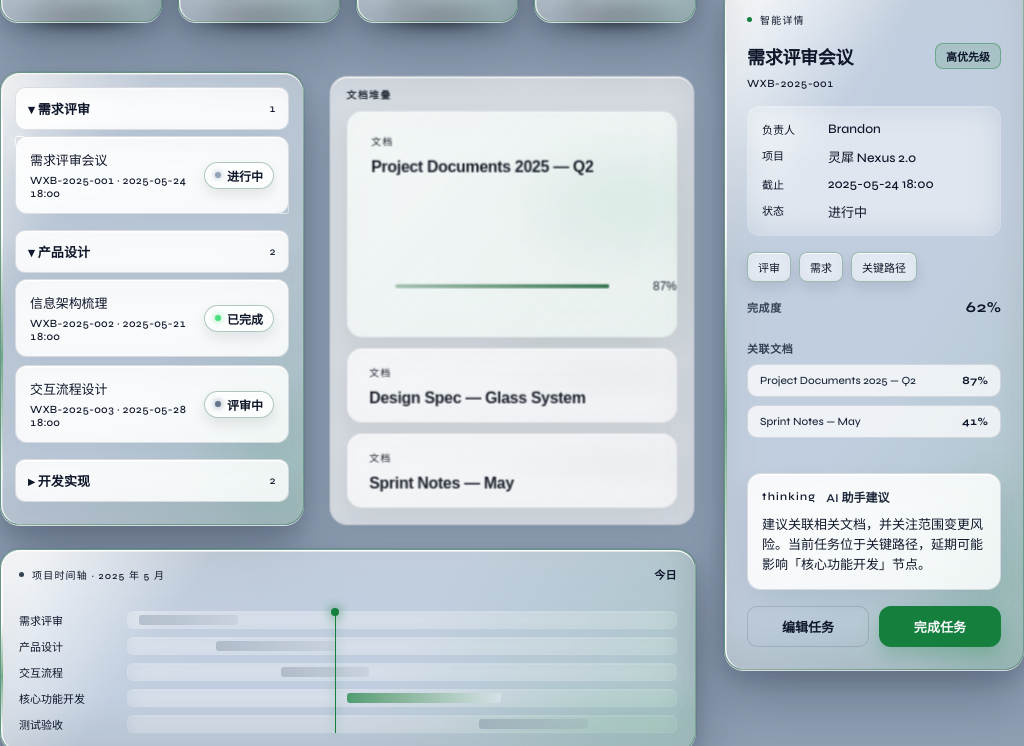
Test: DashboardWorkspace (reference #3) › toggles accordion groups
(page scrolled)
Check: the text "测试与验收准备" is not shown
Click the button "▸ 开发实现 2": (64, 482) [15,459,289,502]
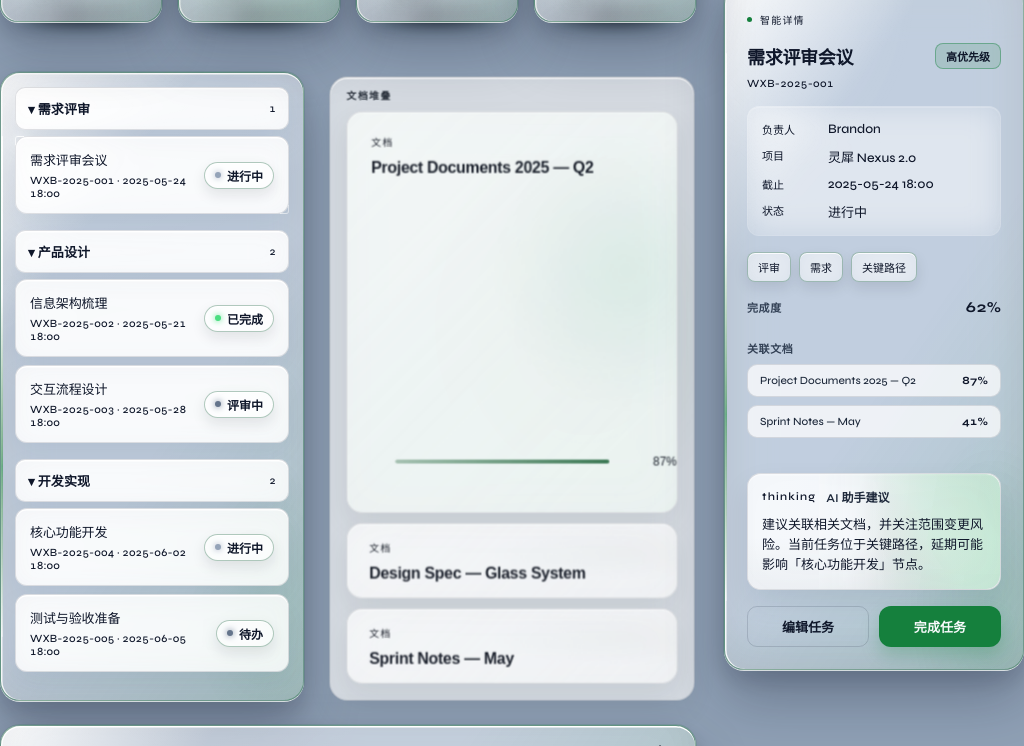
Check: the text "测试与验收准备" is shown, box [30,611,120,627]
